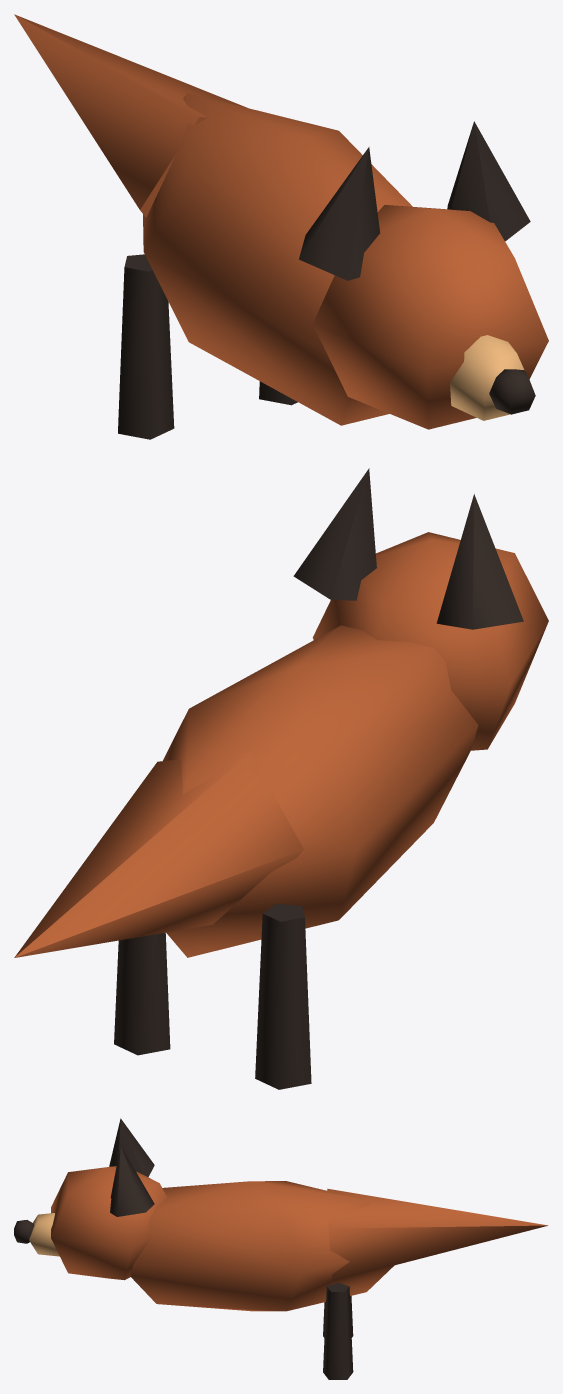
Rendered from patch-fox-lod2.glb.
The picture shows the model from 3 angles, top to bottom: view 1: azimuth 30°, elevation 25°; view 2: azimuth 150°, elevation 25°; view 3: azimuth 270°, elevation 25°; orthographic projection. The views are drawn at different scales.
Parts seen in each view (by area): view 1: MESH_patch_fox_fur, MESH_patch_fox_dark, MESH_patch_fox_furLight; view 2: MESH_patch_fox_fur, MESH_patch_fox_dark; view 3: MESH_patch_fox_fur, MESH_patch_fox_dark, MESH_patch_fox_furLight.
Part boxes in pixels (bbox=[...]): MESH_patch_fox_fur: bbox=[14, 14, 548, 429]; MESH_patch_fox_dark: bbox=[118, 121, 535, 439]; MESH_patch_fox_furLight: bbox=[450, 335, 524, 420]; MESH_patch_fox_fur: bbox=[14, 532, 548, 957]; MESH_patch_fox_dark: bbox=[114, 468, 523, 1089]; MESH_patch_fox_fur: bbox=[51, 1166, 548, 1311]; MESH_patch_fox_dark: bbox=[14, 1118, 353, 1379]; MESH_patch_fox_furLight: bbox=[29, 1213, 59, 1256].
Bounding box in the file's own units: 1.33 × 2.49 × 5.37.
